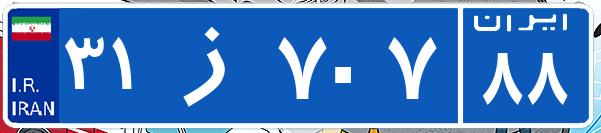0: (330, 28, 385, 110)
1: (110, 28, 158, 105)
3: (57, 26, 110, 107)
7: (385, 28, 445, 110), (273, 28, 330, 110)
8: (475, 38, 525, 113), (525, 38, 570, 115)
ز: (158, 15, 273, 115)
